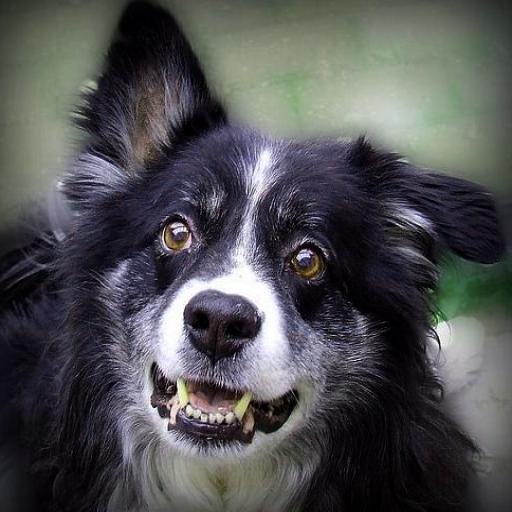dog_face: (79, 12, 498, 441)
